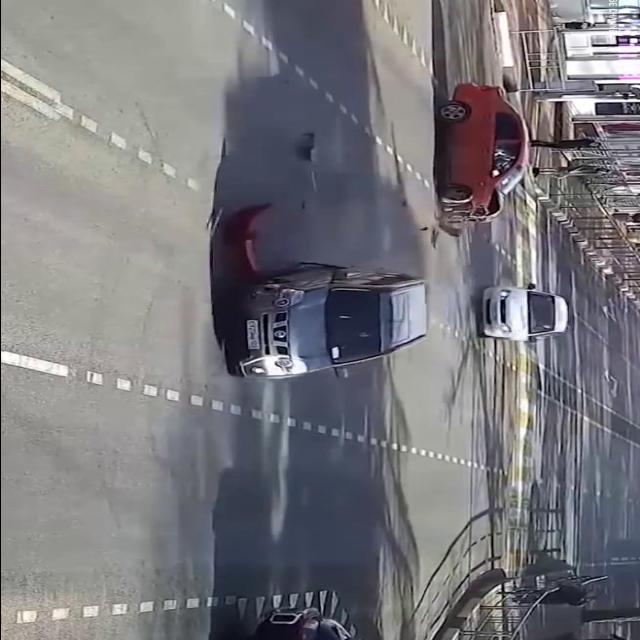accident: (216, 197, 428, 384), (429, 82, 543, 242)
